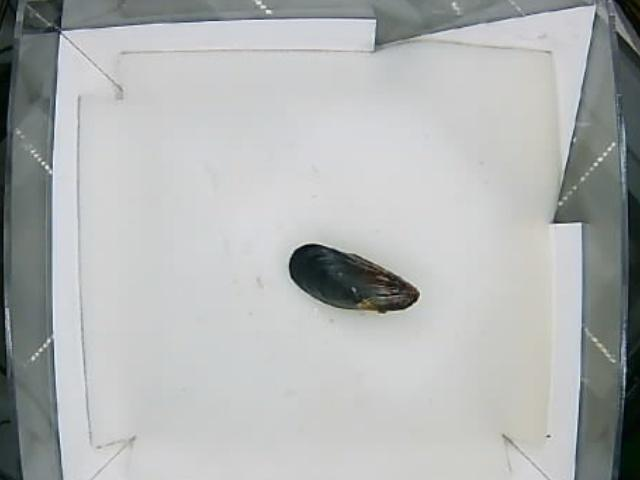Shell: (288, 244, 420, 315)
